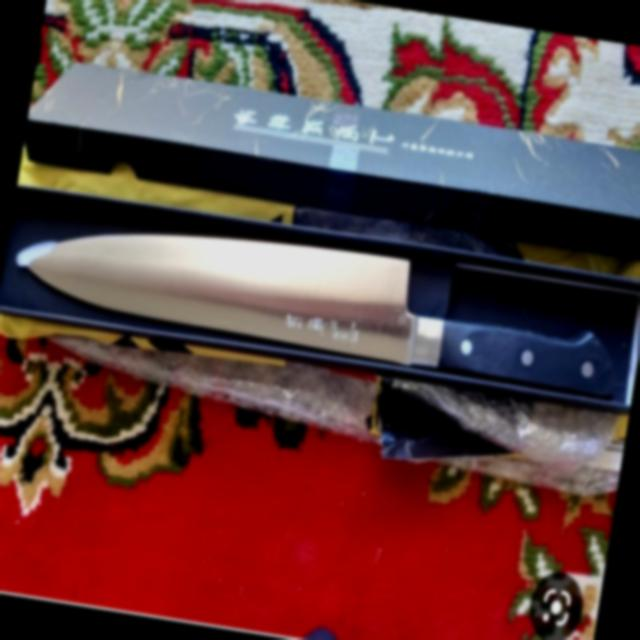knife: (0, 180, 640, 427)
